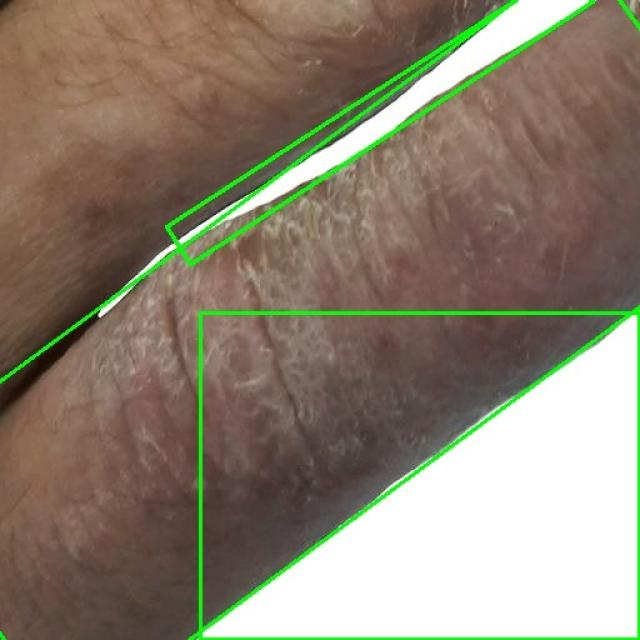Contact Dermatitis: (0, 0, 640, 640), (200, 312, 639, 639), (166, 0, 593, 264)
